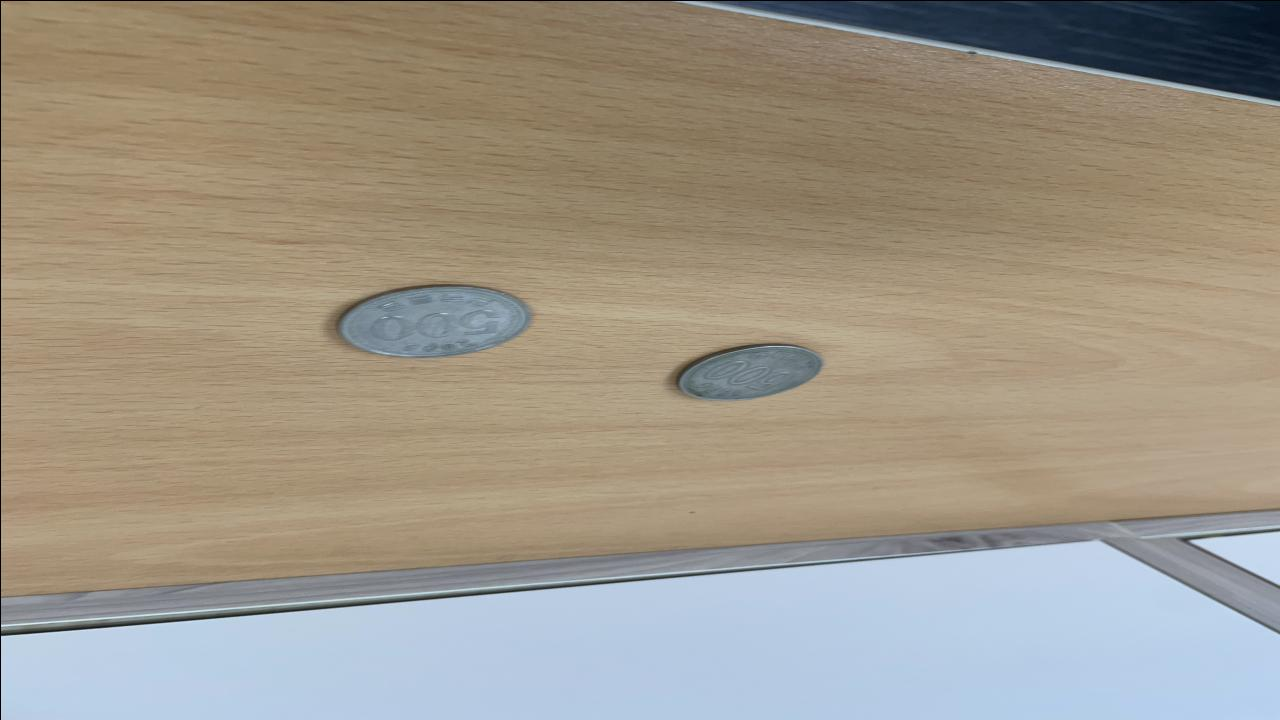coin: (334, 282, 538, 360), (672, 341, 830, 403)
